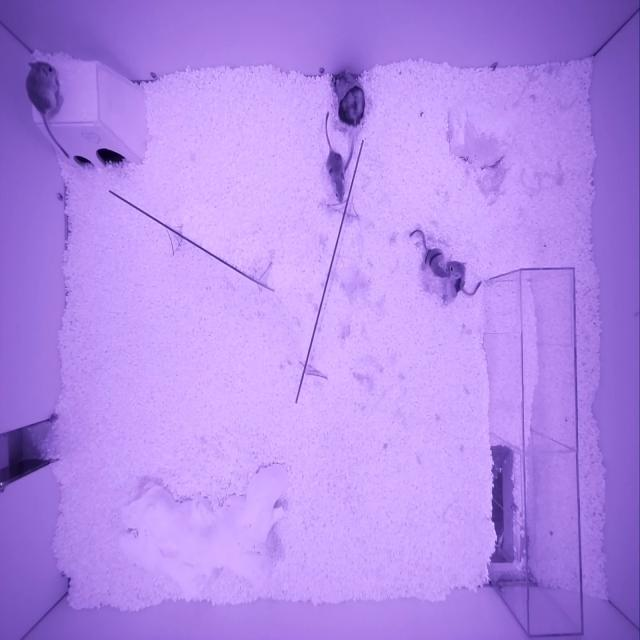adult_back: (331, 70, 366, 135)
pup_fluffy: (25, 61, 59, 112)
pup_h_stripe: (422, 248, 451, 279)
pup_spotted: (325, 150, 347, 204)
pup_v_stripe: (446, 259, 466, 303)
